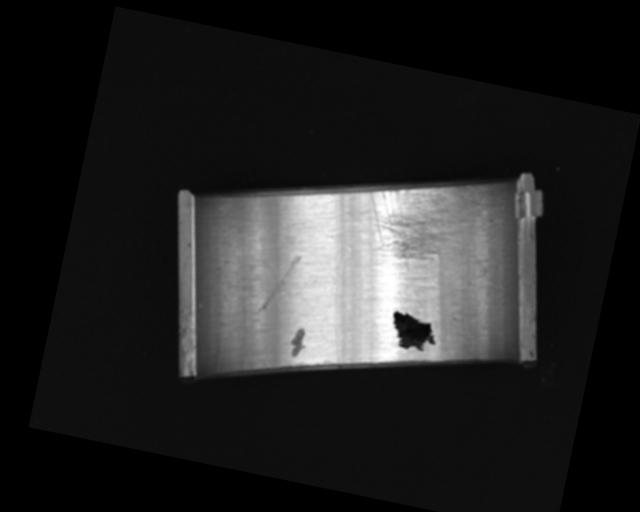blot: (386, 309, 441, 356)
bruise: (286, 325, 309, 360)
nick: (319, 246, 363, 362), (256, 247, 302, 322)
scratch: (354, 164, 485, 284)
